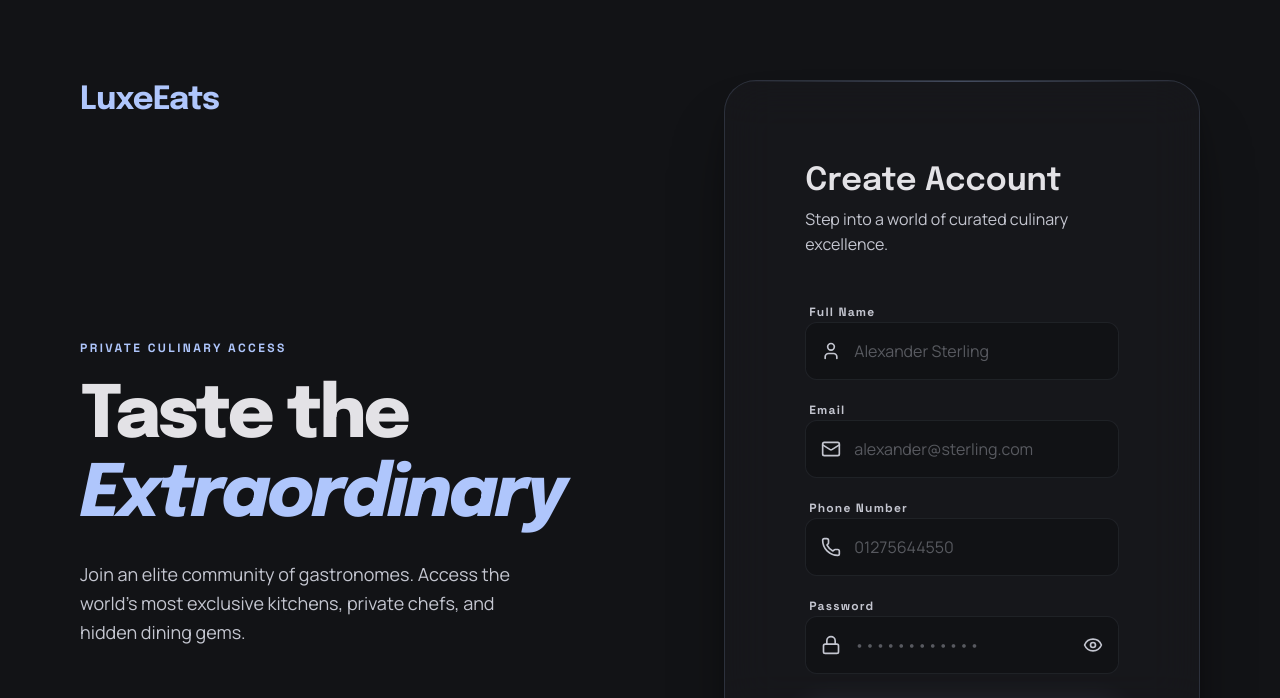
Test case: RegisterPage › password validation › shows error when password is shorter than 8 characters
Type "Ab1@" into the password field labelled "Password". click: x=962, y=645
box: 805,616 -> 1119,674
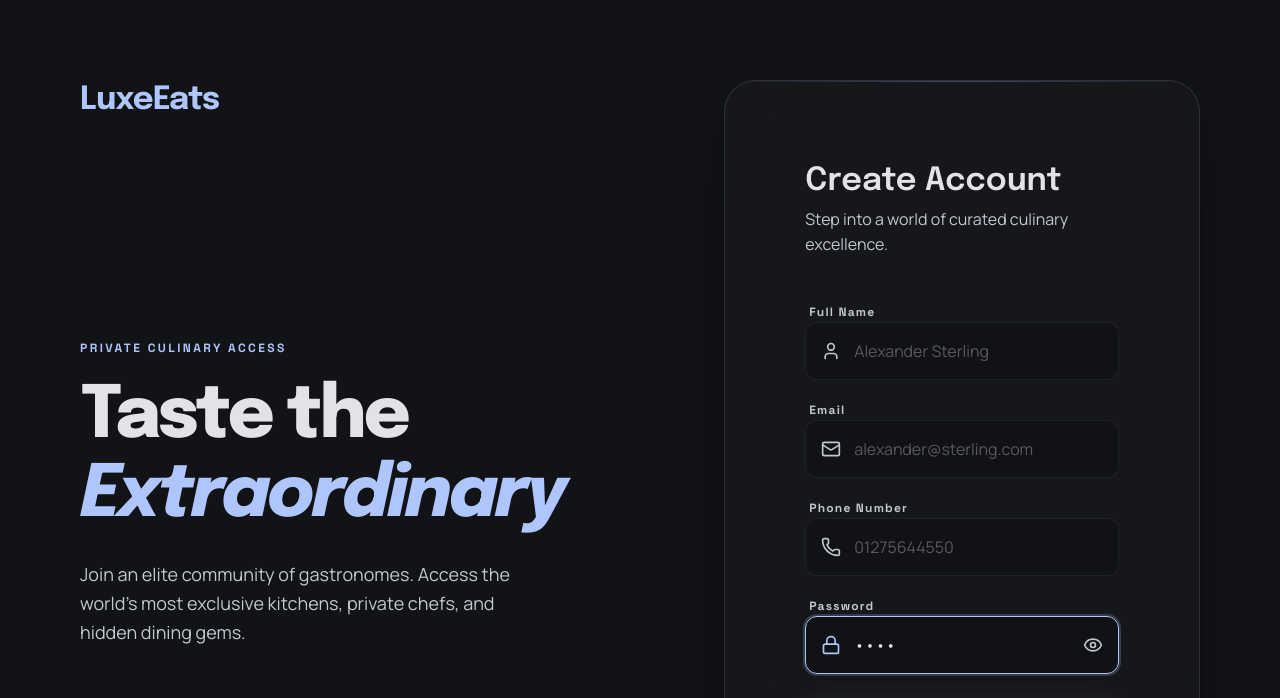
Press Tab
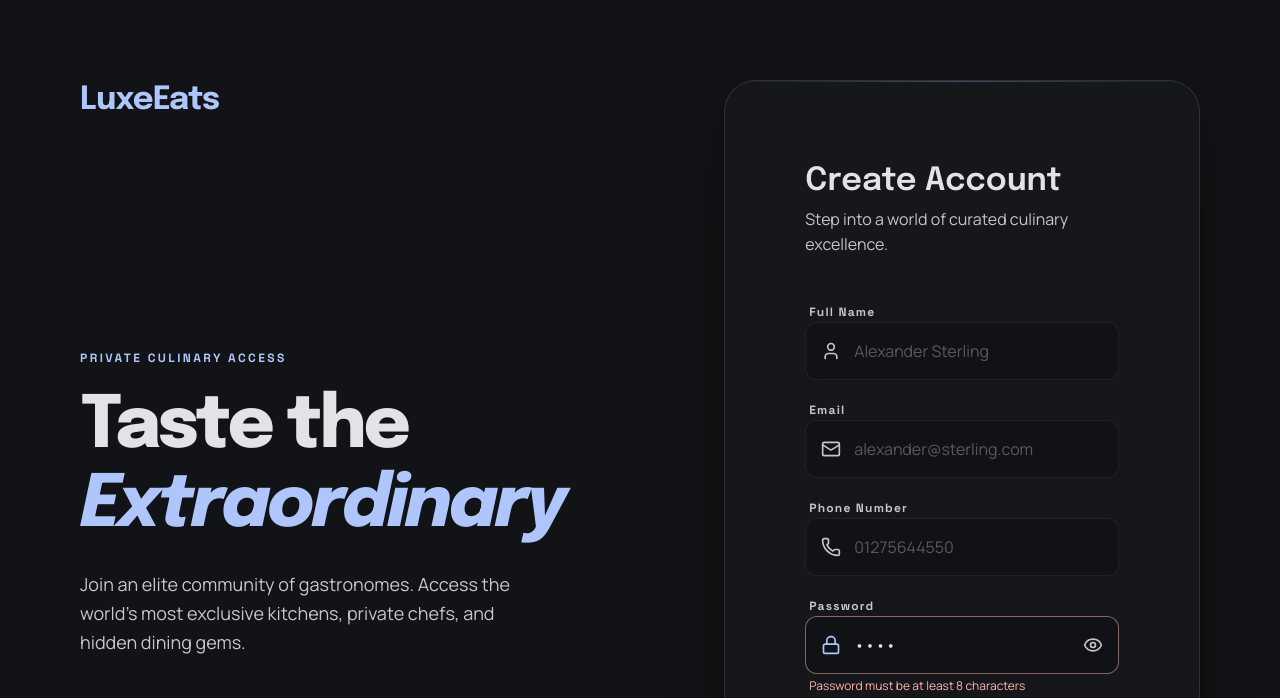
Now the text "Password must be at least 8 characters" is shown, box 809,677 -> 1025,694
